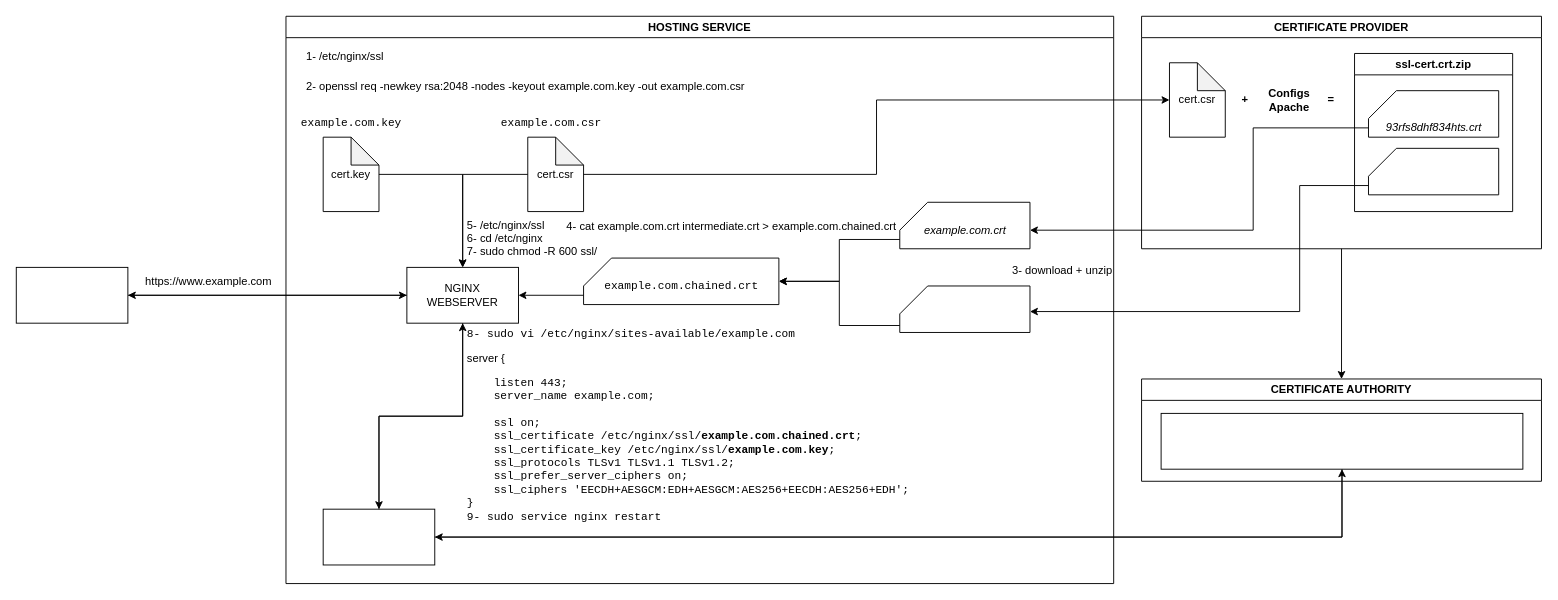
The diagram is 1558 pixels wide and 600 high, and some of its shapes have lost their labels. The centre of each missing label's shape, as x and y in pixels:
"AUTHORITY" goes at point 1341,440.
"CLIENTS" goes at point 71,294.
"gd_bundle-g2-g1.crt" goes at point 1433,171.
"intermediate .crt" goes at point 964,308.
"WEBSITE" goes at point 378,536.
